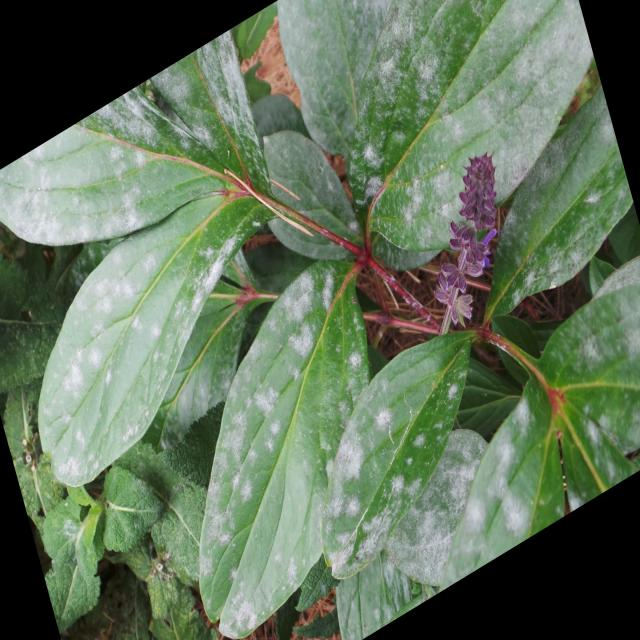Powdery Mildew: (21, 126, 576, 637)
